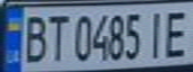0: (72, 11, 93, 62)
4: (90, 10, 112, 62)
5: (124, 9, 145, 60)
8: (106, 10, 127, 61)
B: (18, 10, 51, 63)
E: (160, 6, 193, 58)
I: (142, 7, 169, 60)
T: (42, 10, 69, 63)
